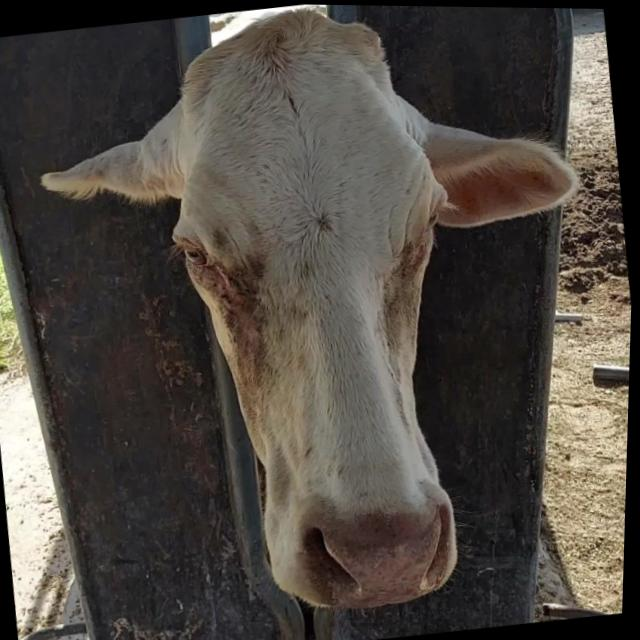cowFace: (141, 2, 498, 622)
